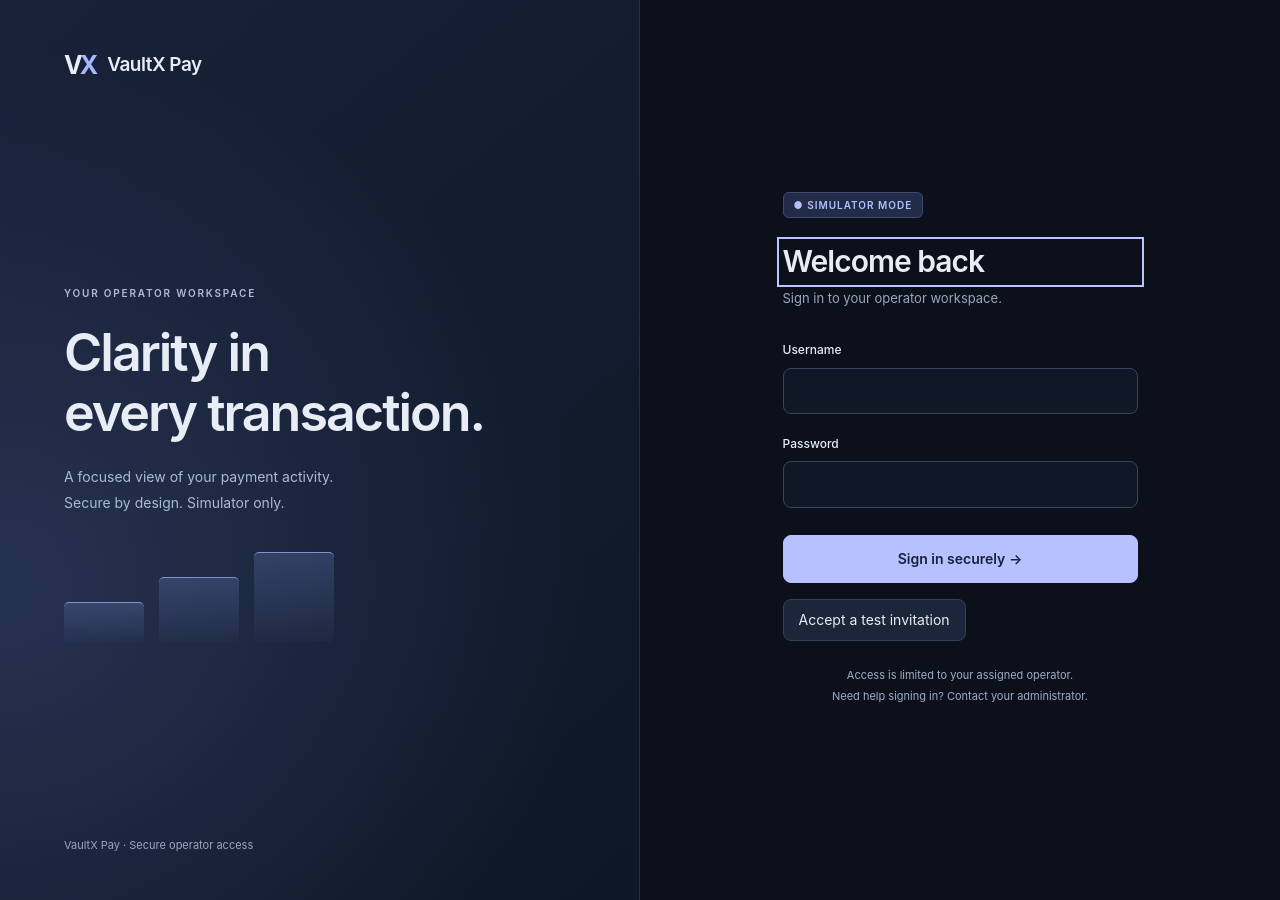
Test: displays generic login failures accessibly
Type "viewer" into the field labelled "Username" at x=960, y=391, box [782,368,1138,414]
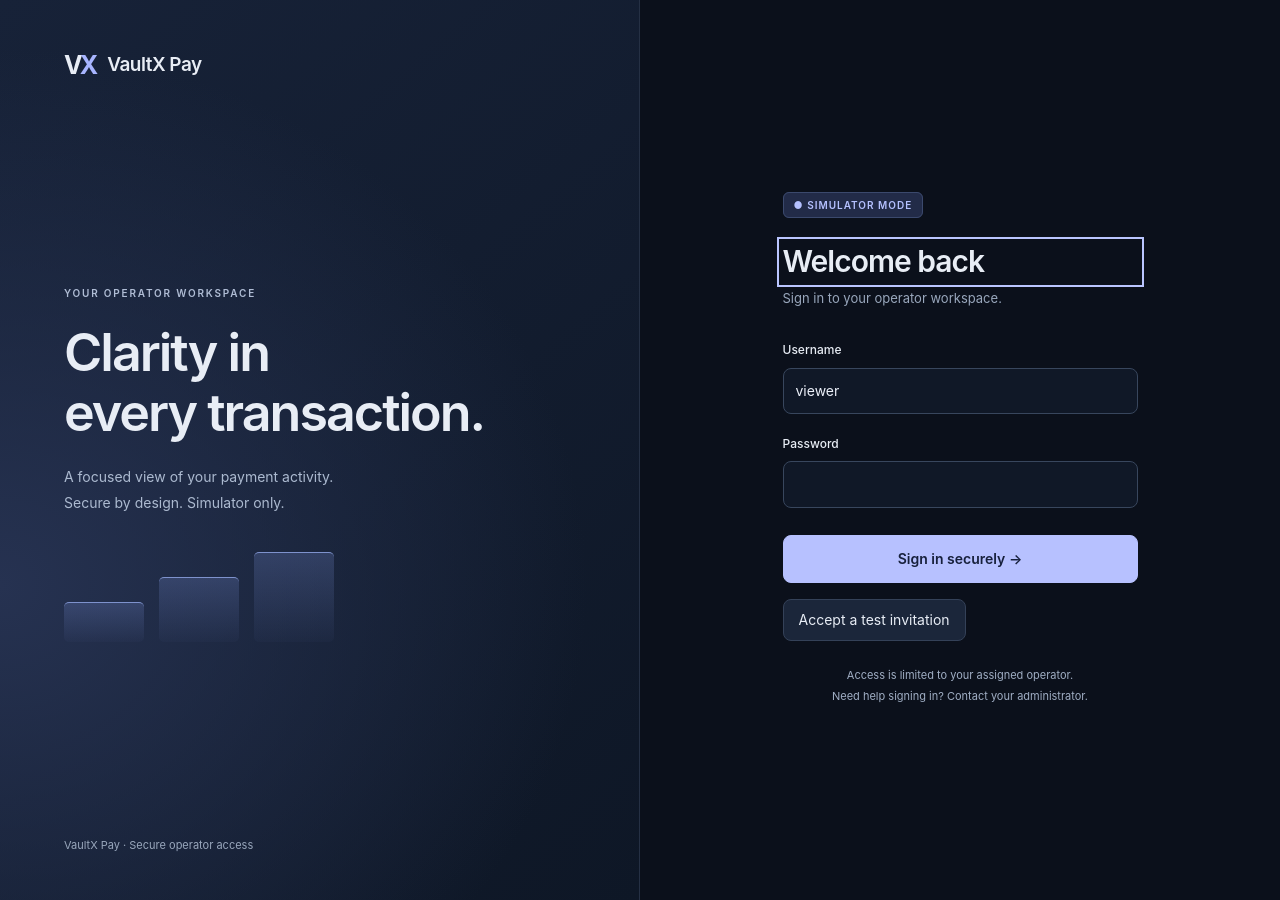
Type "synthetic password only" into the password field labelled "Password" at x=960, y=484, box [782,461,1138,508]
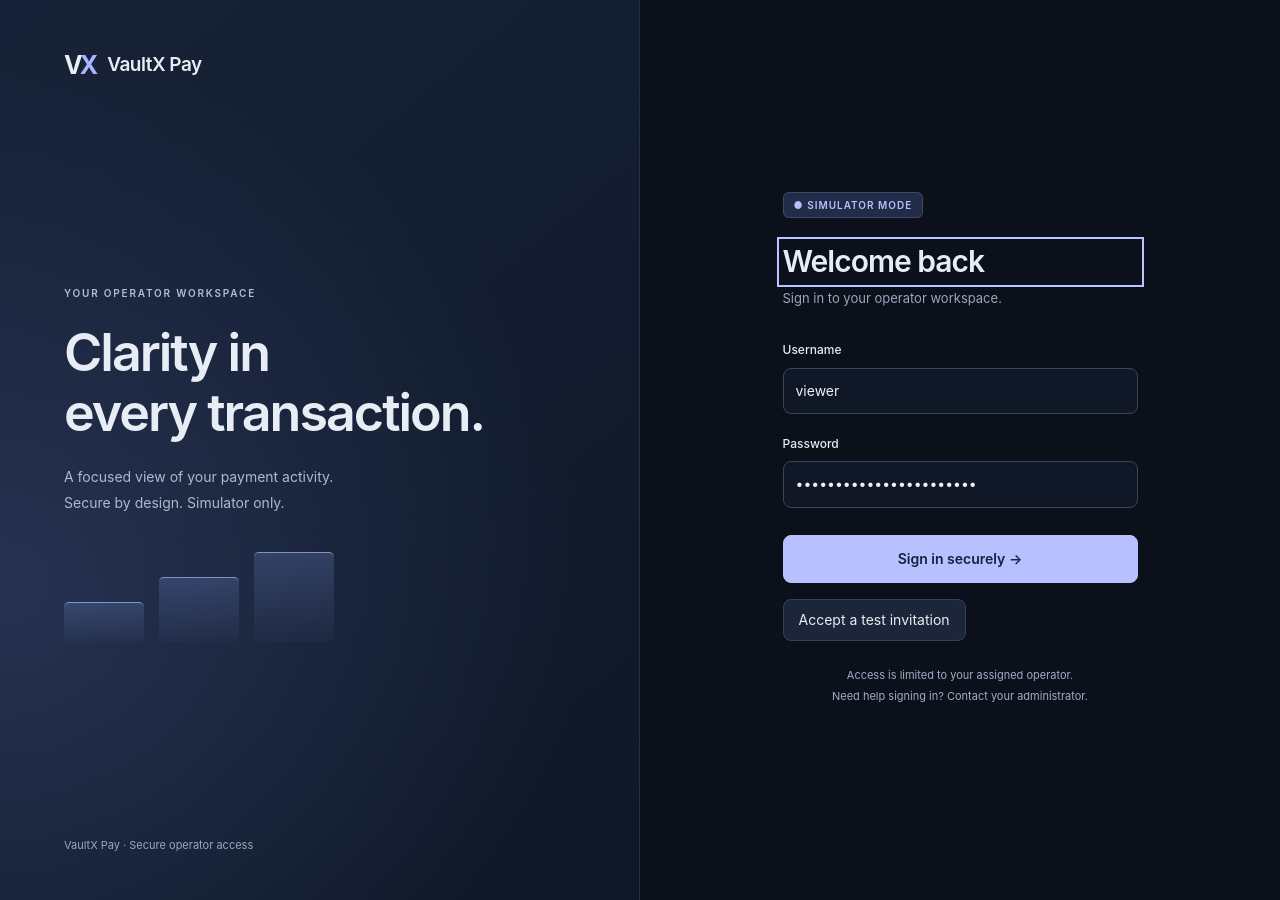
Submit the form labelled "Username", box [782,340,1138,583]
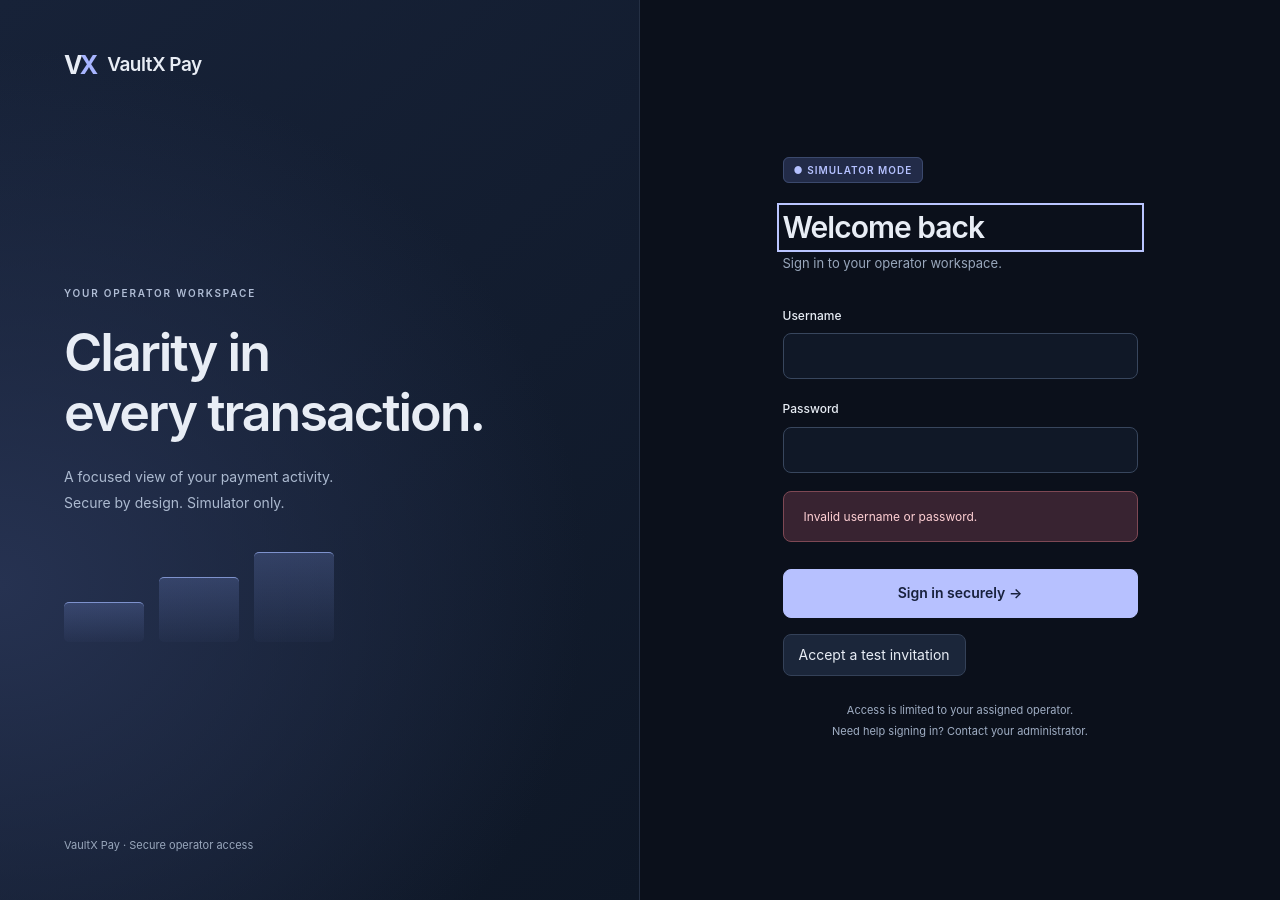
Expected: the message "Invalid username or password." is shown, [782,491,1138,542]
Expected: the password field labelled "Password" is empty, [782,427,1138,473]
